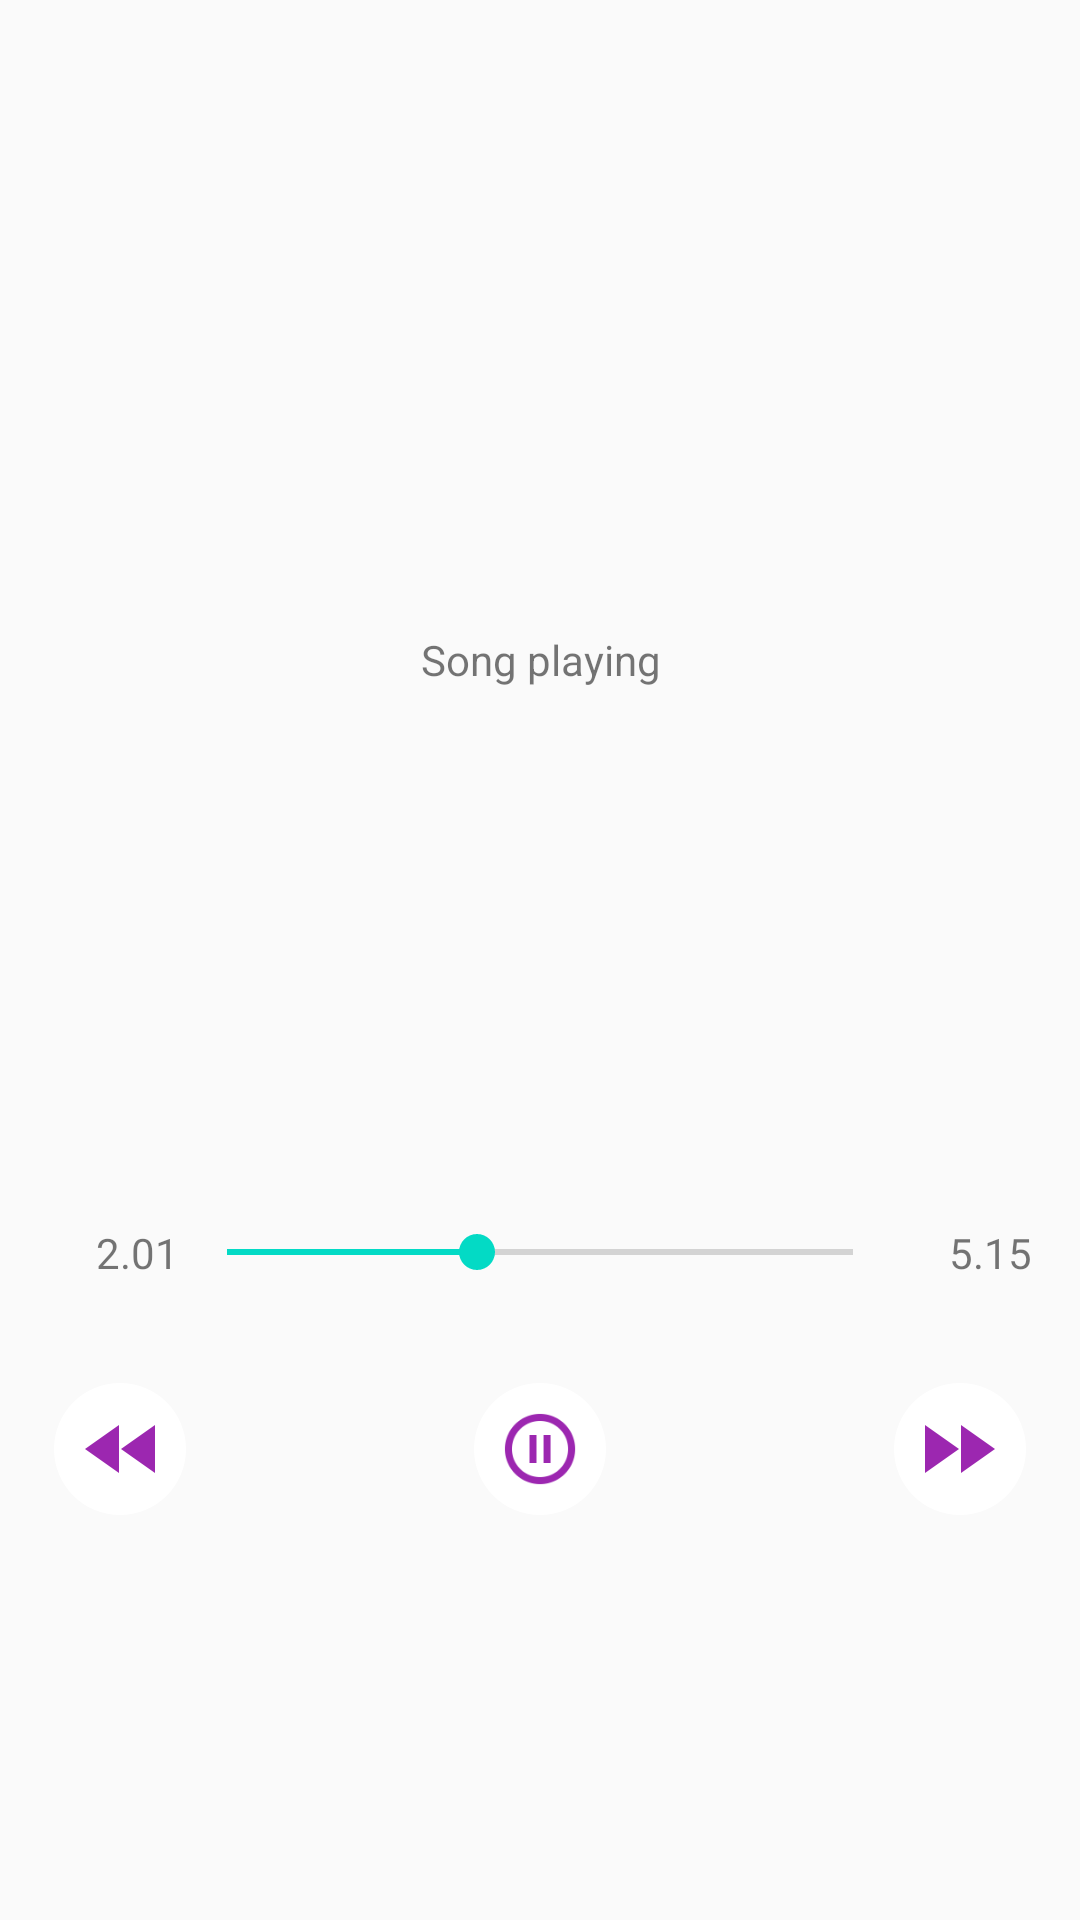

Where to tap for icons on this 1080x1920 app screen, as point (x, y):
shortcut forward: point (960, 1449)
shortcut pause: point (540, 1449)
shortcut rewind: point (120, 1449)
